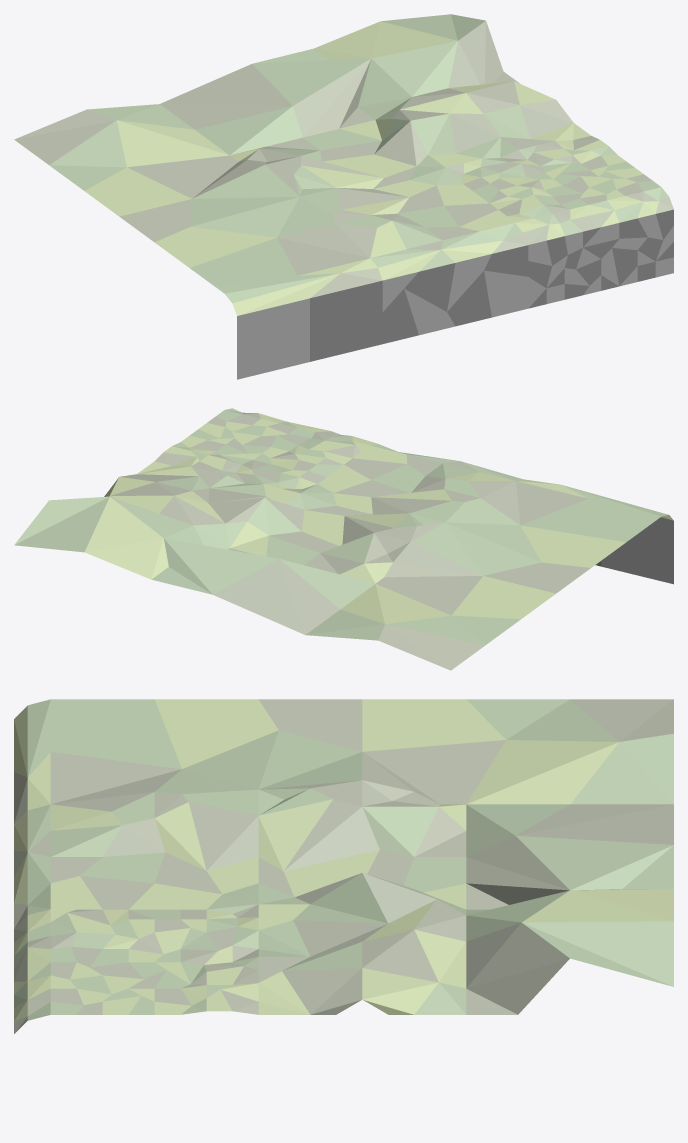
File: MainLand.fbx
3 renders of one model, top to bottom at view 1: azimuth 30°, elevation 25°; view 2: azimuth 150°, elevation 25°; view 3: azimuth 270°, elevation 25°, orthographic. The views are drawn at different scales.
Parts seen in each view (by area): view 1: MainLand; view 2: MainLand; view 3: MainLand.
Part boxes in pixels (x1,y1,x2,y2): MainLand: [14, 14, 673, 379]; MainLand: [14, 408, 673, 670]; MainLand: [14, 699, 673, 1033].
Size of the model in its own units: 34.86 by 8.96 by 30.82.
